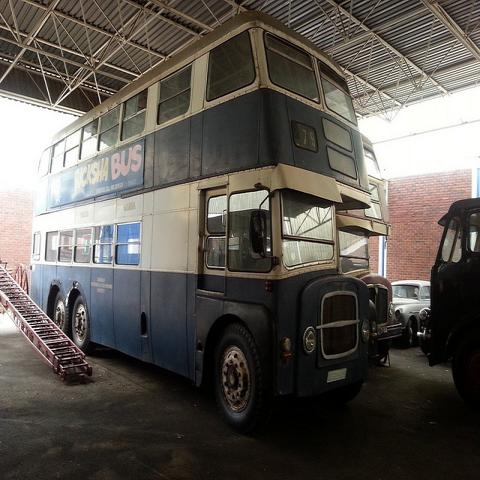bus: (31, 12, 372, 429), (333, 131, 406, 370)
car: (392, 280, 432, 347), (416, 307, 432, 357)
truck: (428, 197, 480, 405)
